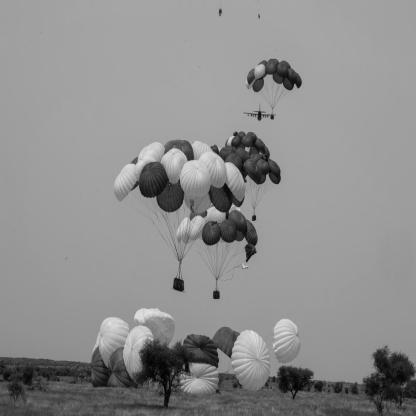C130: (244, 104, 277, 122)
